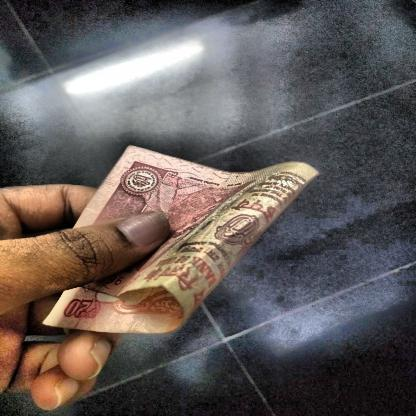Rs20: (57, 296, 108, 322)
